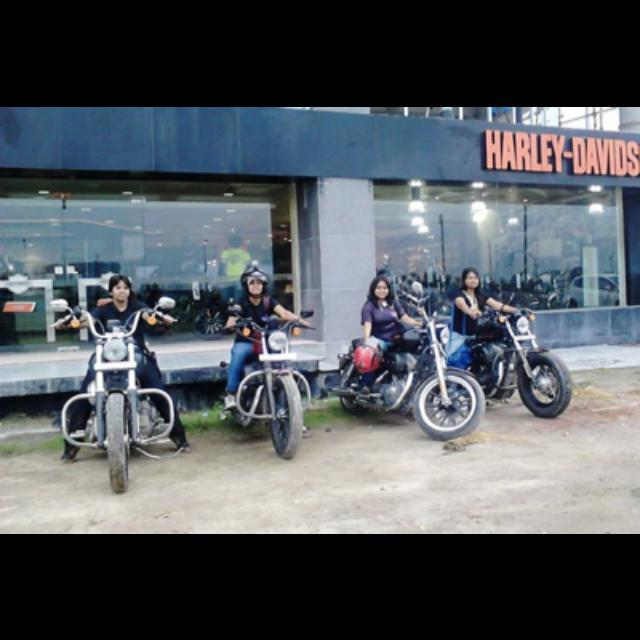With Helmet: (235, 263, 273, 301)
Without Helmet: (101, 268, 139, 304), (366, 269, 394, 303), (458, 260, 484, 290)
